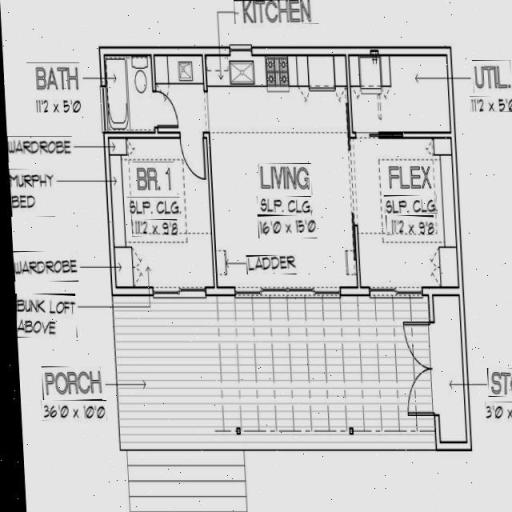Room: (375, 144, 466, 284), (354, 59, 450, 135)
bathroom: (120, 58, 206, 133)
bedroom: (117, 135, 204, 263)
hall: (217, 128, 370, 296)
kitchen: (219, 67, 349, 129)
porch: (113, 310, 439, 461)
